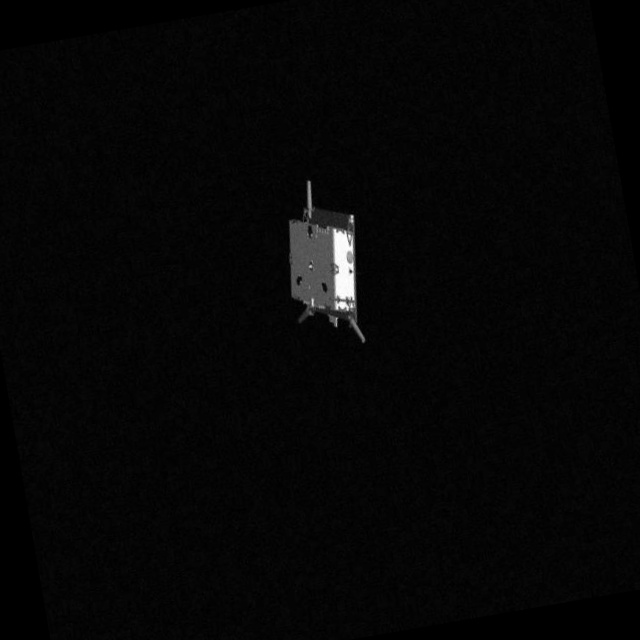medium_debris: (256, 171, 368, 354)
